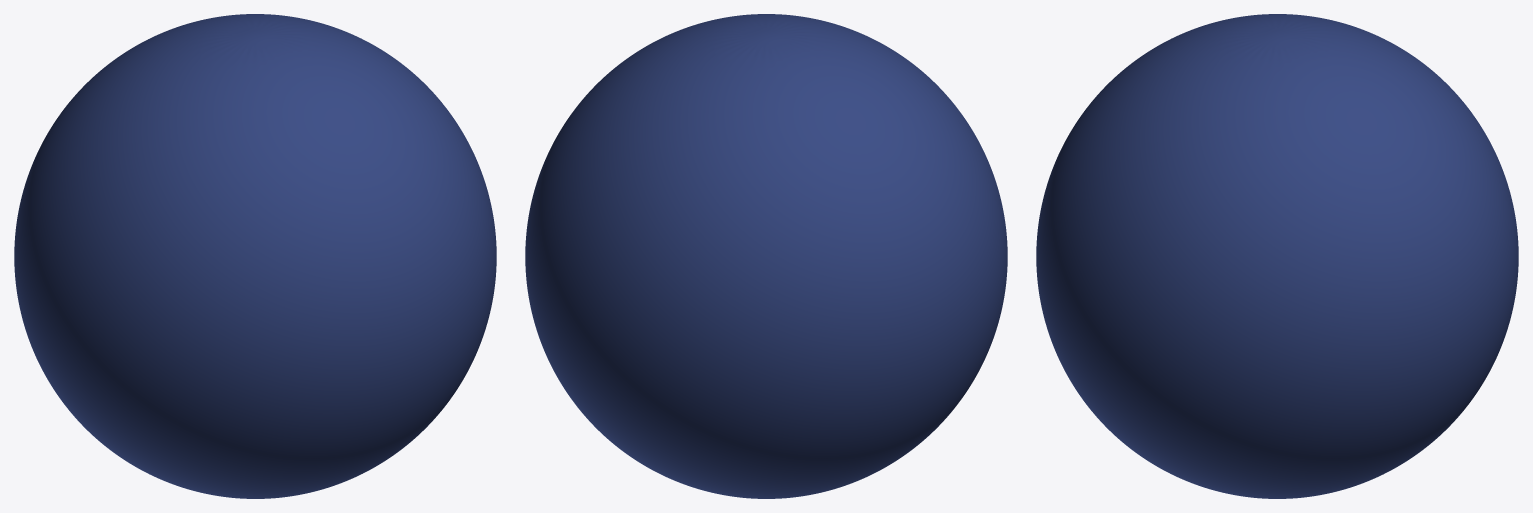
File: Planet_Sphere.fbx
3 renders of one model, left to right at view 1: azimuth 30°, elevation 25°; view 2: azimuth 150°, elevation 25°; view 3: azimuth 270°, elevation 25°, orthographic.
Visible parts, largest first — view 1: Sphere_base; view 2: Sphere_base; view 3: Sphere_base.
Boxes of the visible parts, <box> form: Sphere_base: <box>14,14,496,498</box>; Sphere_base: <box>525,14,1007,498</box>; Sphere_base: <box>1036,14,1518,498</box>.
Bounding box in the file's own units: 197 × 200 × 197.
